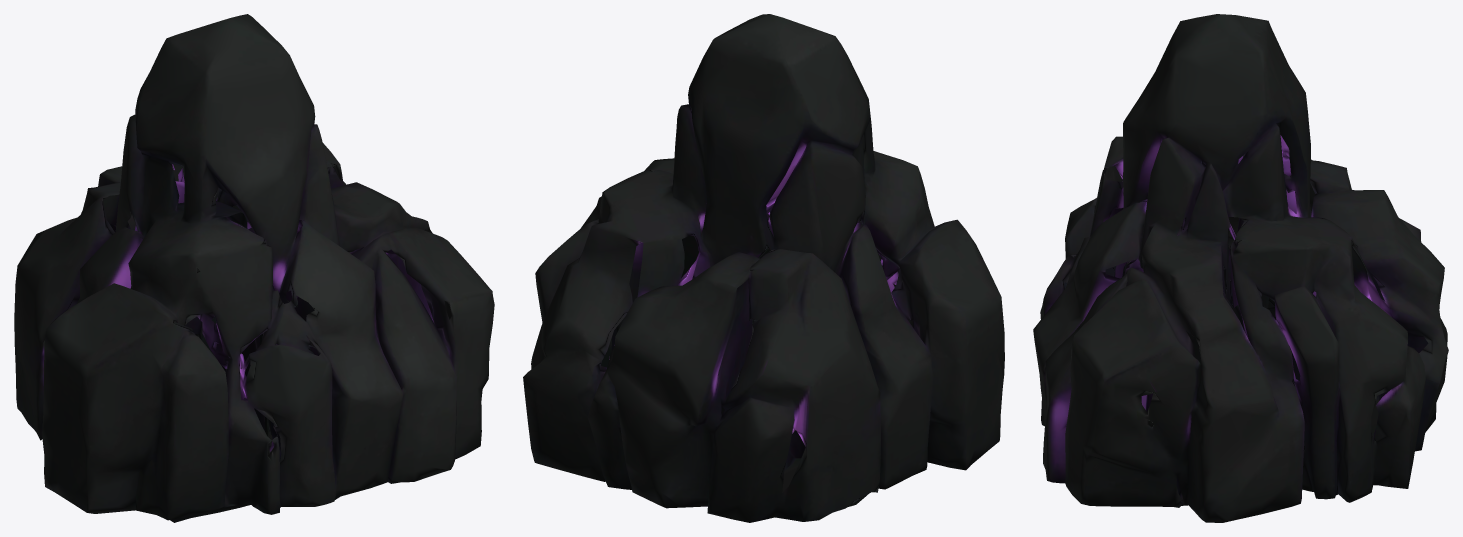
The model's file is obsidian-node.glb.
3 renders of one model, left to right at view 1: azimuth 30°, elevation 25°; view 2: azimuth 150°, elevation 25°; view 3: azimuth 270°, elevation 25°, orthographic. The views are drawn at different scales.
Parts seen in each view (by area): view 1: world; view 2: world; view 3: world.
Boxes of the visible parts, x1,y1,x2,y2 form: world: (14, 14, 494, 522); world: (523, 14, 1004, 522); world: (1033, 14, 1448, 522).
Bounding box in the file's own units: 0.942 × 0.9993 × 0.8478.
1 material, 1 textured.
